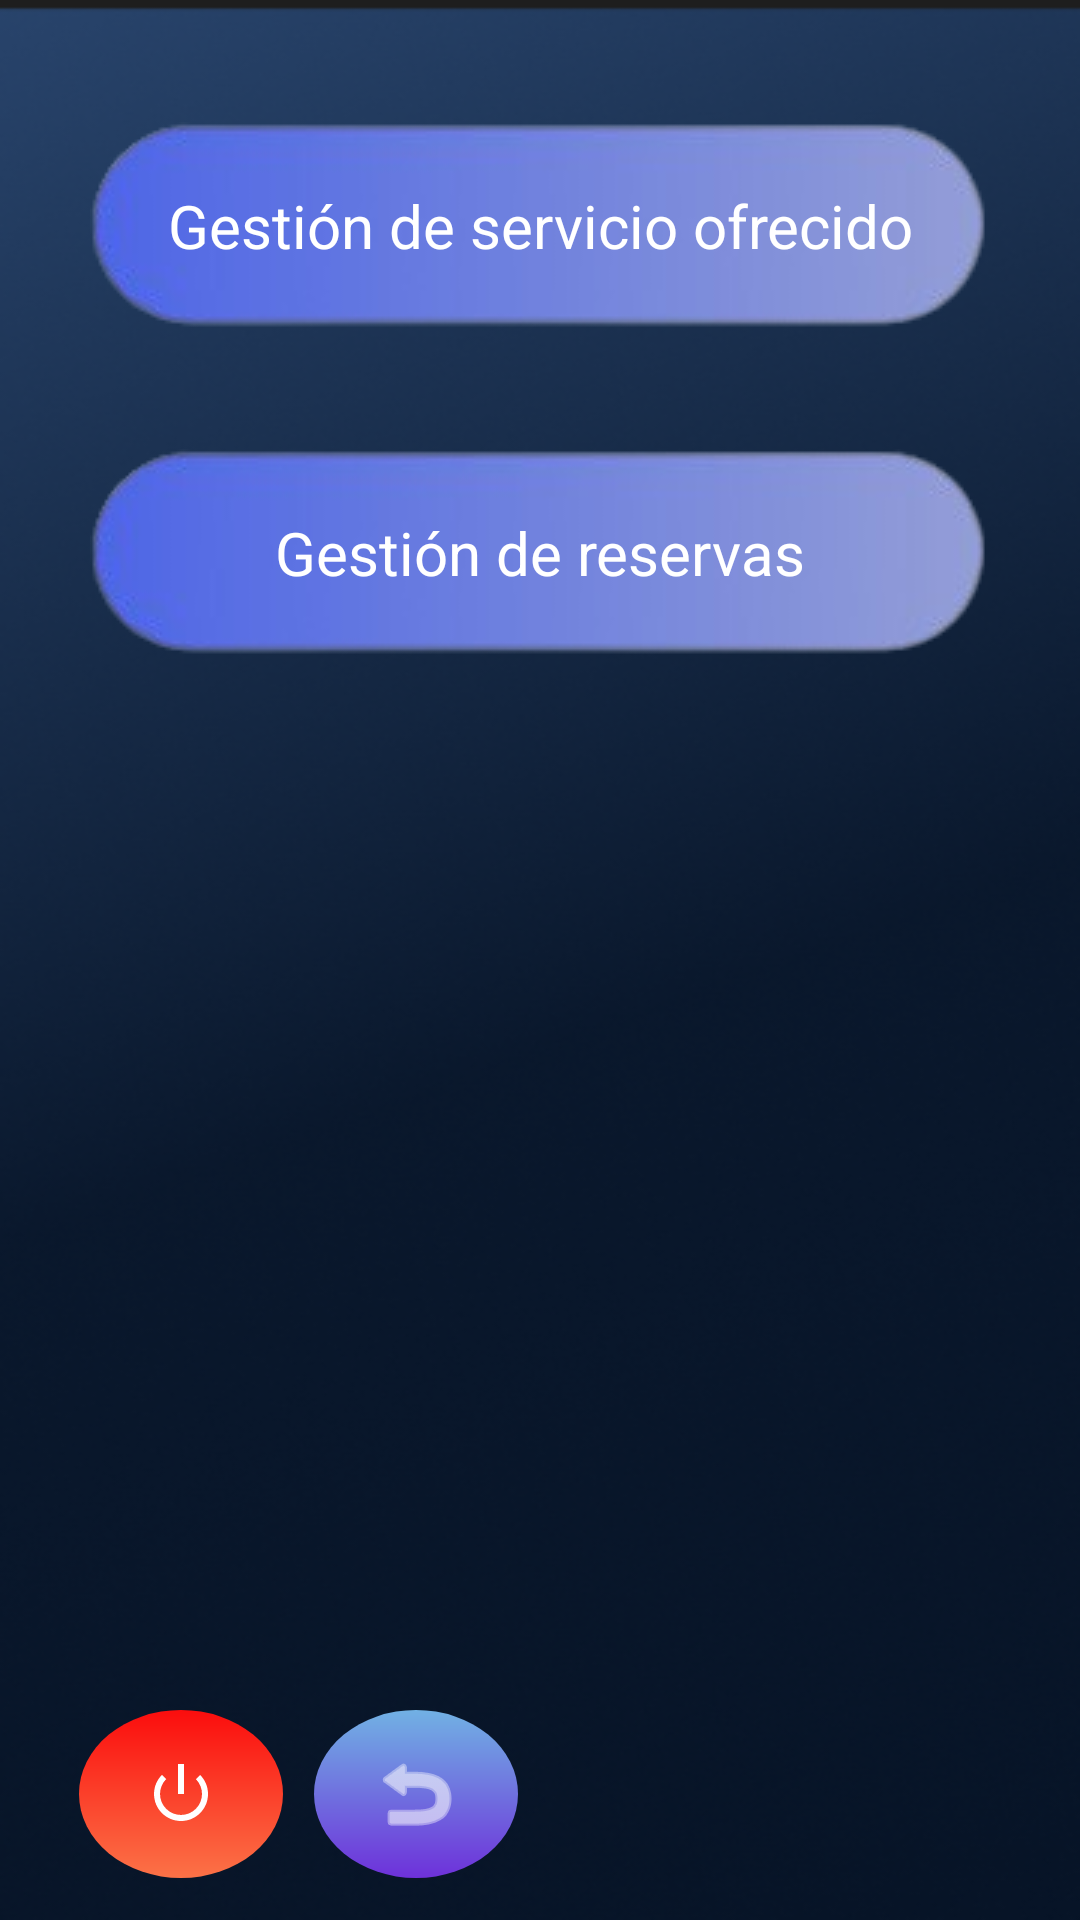

Where icons sit on this 1080w x 1920h app screen, as (x1, y1, x2, y2):
lock power off: (79, 1710, 283, 1878)
revert: (314, 1710, 518, 1878)
